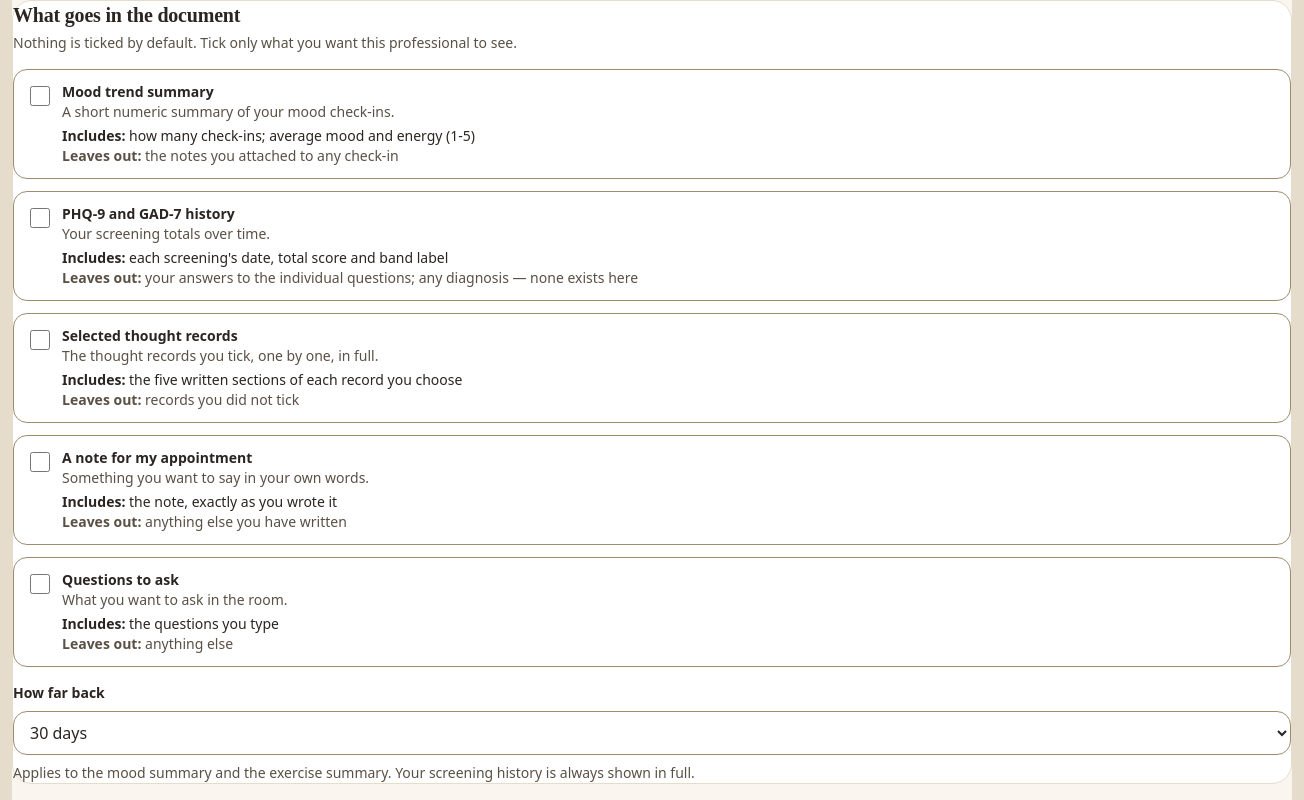
Test: ShareBuilder › sends the record ids it was given, and stops at the server's limit
The width and height of the screenshot is (1304, 800).
Click the 3rd checkbox: coordinates (40, 340) x1=30 y1=330 x2=50 y2=350
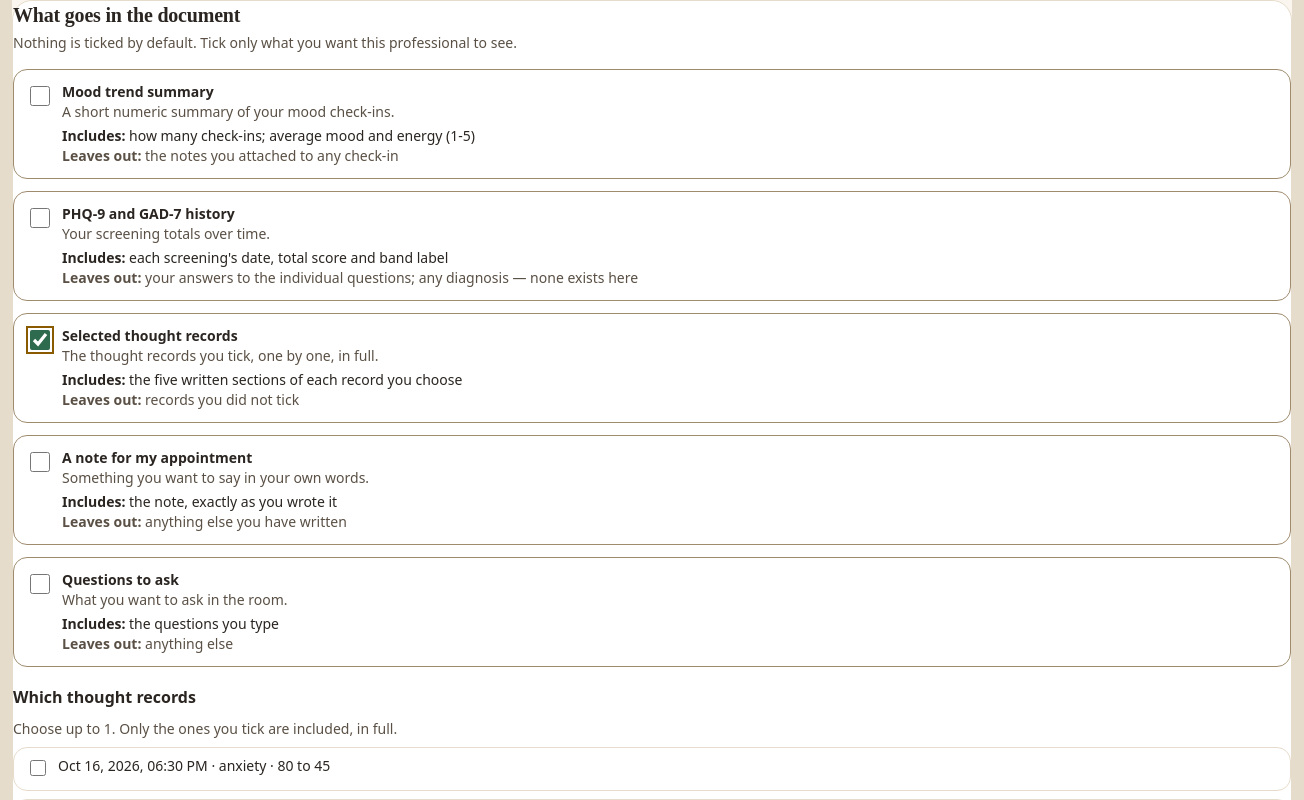
expect the text "Oct 16, 2026, 06:30 PM · anxiety · 80 to 45" is shown: met, box x1=58 y1=756 x2=330 y2=776
Click the checkbox with test id "share-record-record-1": coordinates (38, 768) x1=30 y1=760 x2=46 y2=776
(page scrolled)
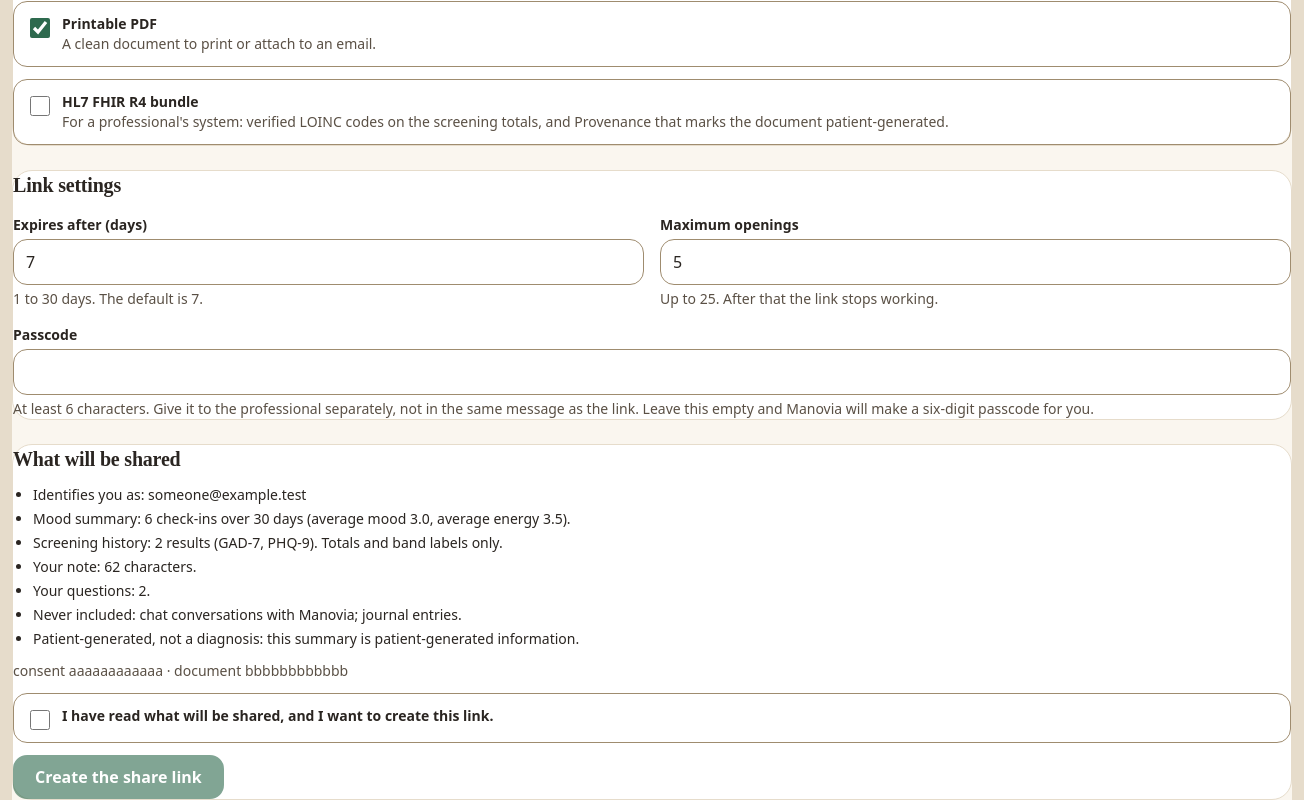
expect the element with test id "share-preview" is shown: met, box x1=13 y1=485 x2=579 y2=680
